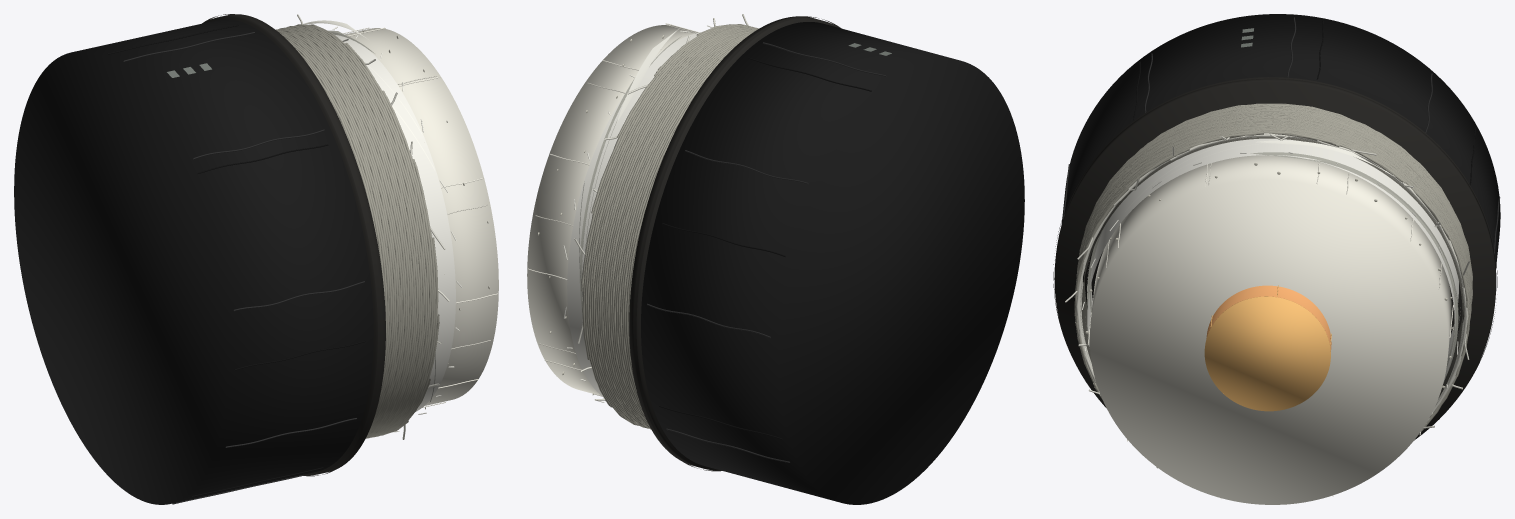
Rendered from rf-lmr1200-macro.glb.
3 renders of one model, left to right at view 1: azimuth 30°, elevation 25°; view 2: azimuth 150°, elevation 25°; view 3: azimuth 270°, elevation 25°, orthographic. The views are drawn at different scales.
Visible parts, largest first — view 1: macro jacket body, macro dielectric exposed core, continuous foil sleeve under braid, thick jacket cut wall, rounded jacket cut lip, macro braid shadow carrier 06 strand 3, macro braid shadow carrier 05 strand 3, macro braid shadow carrier 06 strand 1, macro braid shadow carrier 07 strand 3, macro braid shadow carrier 07 strand 1, macro braid shadow carrier 08 strand 1, macro braid shadow carrier 05 strand 1 (+24 smaller); view 2: macro jacket body, macro dielectric exposed core, thick jacket cut wall, continuous foil sleeve under braid, rounded jacket cut lip, raised foil lap seam, macro braid shadow carrier 01 strand 3, macro braid shadow carrier 15 strand 3, macro braid shadow carrier 16 strand 3, macro braid shadow carrier 01 strand 1, macro braid shadow carrier 16 strand 1, macro braid shadow carrier 14 strand 3 (+18 smaller); view 3: macro dielectric exposed core, macro jacket body, thick jacket cut wall, polished conductor cut face glow, continuous foil sleeve under braid, shadow seen through braid windows, raised foil lap seam, polished solid center conductor, rounded jacket cut lip, macro braid shadow carrier 03 strand 3, macro braid shadow carrier 02 strand 3, macro braid shadow carrier 02 strand 1 (+26 smaller).
Boxes of the visible parts, x1,y1,x2,y2 form: macro jacket body: (14,19,373,504); macro dielectric exposed core: (344,28,498,405); continuous foil sleeve under braid: (335,35,455,411); thick jacket cut wall: (203,14,385,475); rounded jacket cut lip: (202,14,381,476); macro braid shadow carrier 06 strand 3: (298,24,428,437); macro braid shadow carrier 05 strand 3: (284,24,426,433); macro braid shadow carrier 06 strand 1: (280,24,429,429); macro braid shadow carrier 07 strand 3: (278,31,431,437); macro braid shadow carrier 07 strand 1: (291,37,431,433); macro braid shadow carrier 08 strand 1: (277,30,433,436); macro braid shadow carrier 05 strand 1: (298,25,426,436); macro jacket body: (641,22,1024,504); macro dielectric exposed core: (527,25,697,395); thick jacket cut wall: (629,16,839,470); continuous foil sleeve under braid: (567,32,700,397); rounded jacket cut lip: (633,16,841,471); raised foil lap seam: (579,36,681,314); macro braid shadow carrier 01 strand 3: (585,27,744,418); macro braid shadow carrier 15 strand 3: (588,28,757,424); macro braid shadow carrier 16 strand 3: (586,28,757,416); macro braid shadow carrier 01 strand 1: (584,27,758,407); macro braid shadow carrier 16 strand 1: (587,27,750,425); macro braid shadow carrier 14 strand 3: (591,29,747,428); macro dielectric exposed core: (1089,155,1451,504); macro jacket body: (1061,14,1500,267); thick jacket cut wall: (1054,78,1496,439); polished conductor cut face glow: (1204,296,1330,411); continuous foil sleeve under braid: (1087,138,1458,382); shadow seen through braid windows: (1081,137,1464,397); raised foil lap seam: (1087,152,1458,375); polished solid center conductor: (1206,285,1331,350); rounded jacket cut lip: (1053,77,1497,391); macro braid shadow carrier 03 strand 3: (1080,112,1471,309); macro braid shadow carrier 02 strand 3: (1086,112,1469,369); macro braid shadow carrier 02 strand 1: (1077,111,1471,376).
Size of the model in its own units: 6.66 by 8.49 by 8.54.
